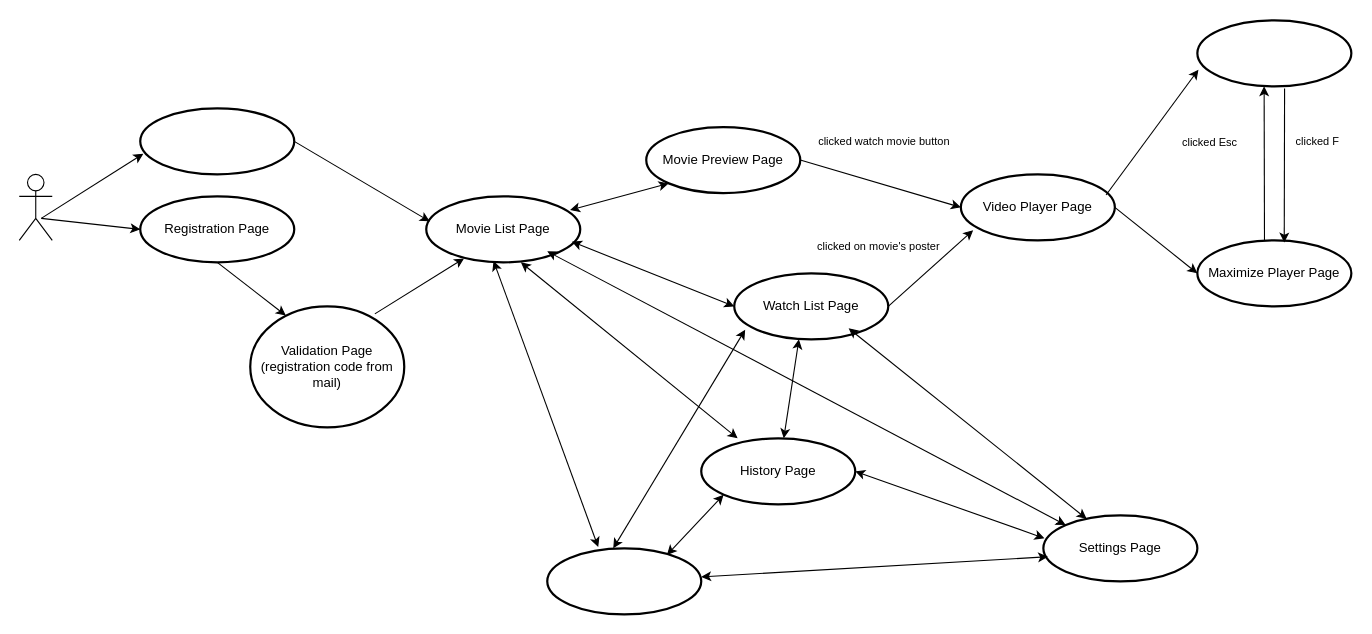
Some shapes in this 1372 by 634 pixel diagram are drawn without their labels. Each missing label, with the centre of its shape:
"Account Page" goes at (x=624, y=581).
"Login Page" goes at (x=217, y=141).
"Minimize Player Page" goes at (x=1274, y=53).
"User" goes at (x=35, y=206).
